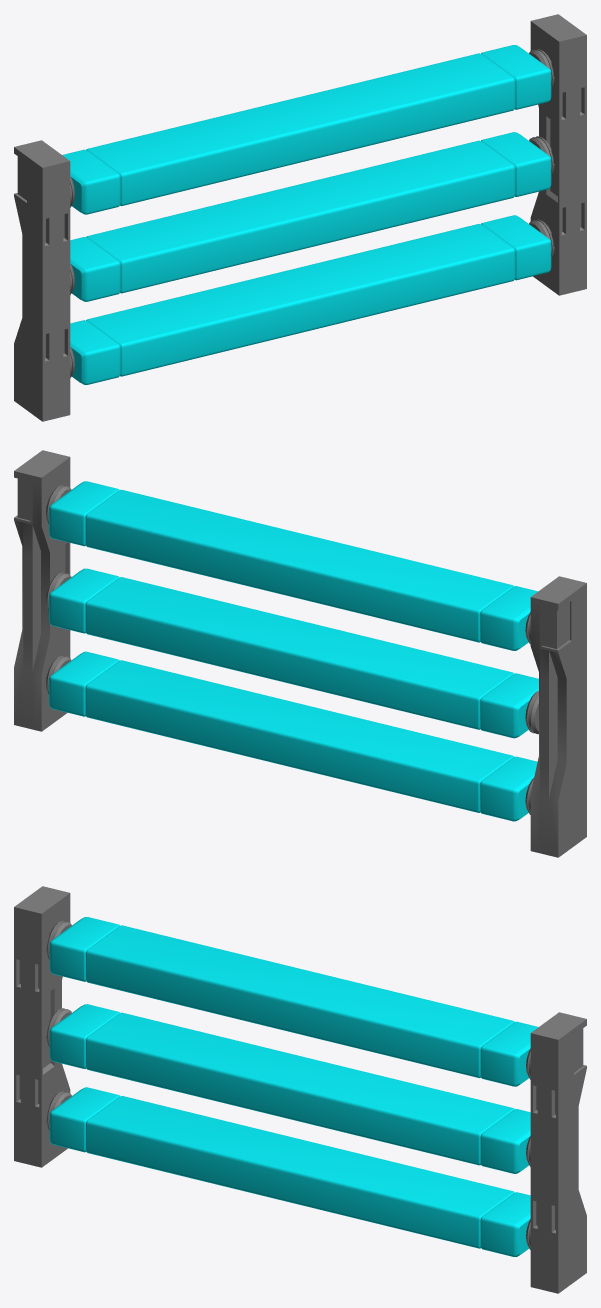
Rendered from plant_Humidifier.fbx.
3 renders of one model, top to bottom at view 1: azimuth 30°, elevation 25°; view 2: azimuth 150°, elevation 25°; view 3: azimuth 330°, elevation 25°, orthographic.
Parts seen in each view (by area): view 1: Plant_Humidifier; view 2: Plant_Humidifier; view 3: Plant_Humidifier.
Part boxes in pixels (<box>): Plant_Humidifier: <box>14,14,586,421</box>; Plant_Humidifier: <box>14,450,586,857</box>; Plant_Humidifier: <box>14,886,586,1293</box>.
Bounding box in the file's own units: 6.95 × 0.8001 × 3.1.
